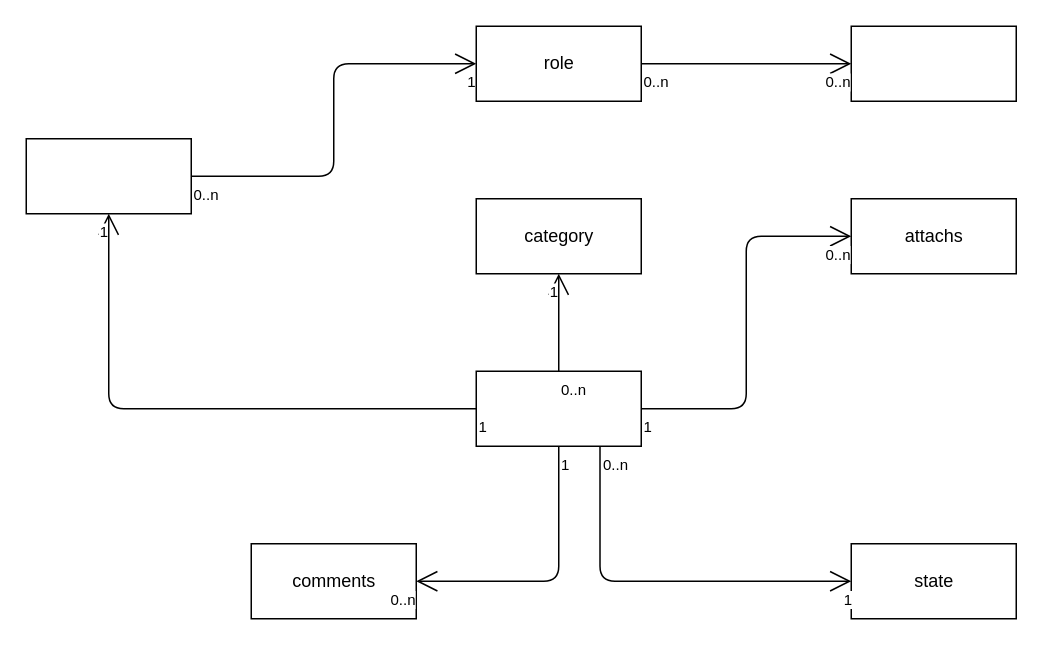
Some shapes in this 1043 by 645 pixel diagram are drawn without their labels. The shapes that lost their labels are listed below. From the top down, each one's box as (x1, y1, x2, y2) in pixels, then its label:
(850, 25, 1016, 101): rules
(25, 137, 191, 214): user
(475, 370, 641, 446): item
